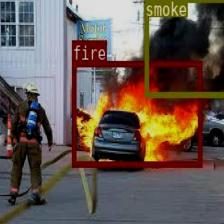fire: (72, 60, 201, 166)
smoke: (144, 0, 224, 96)
